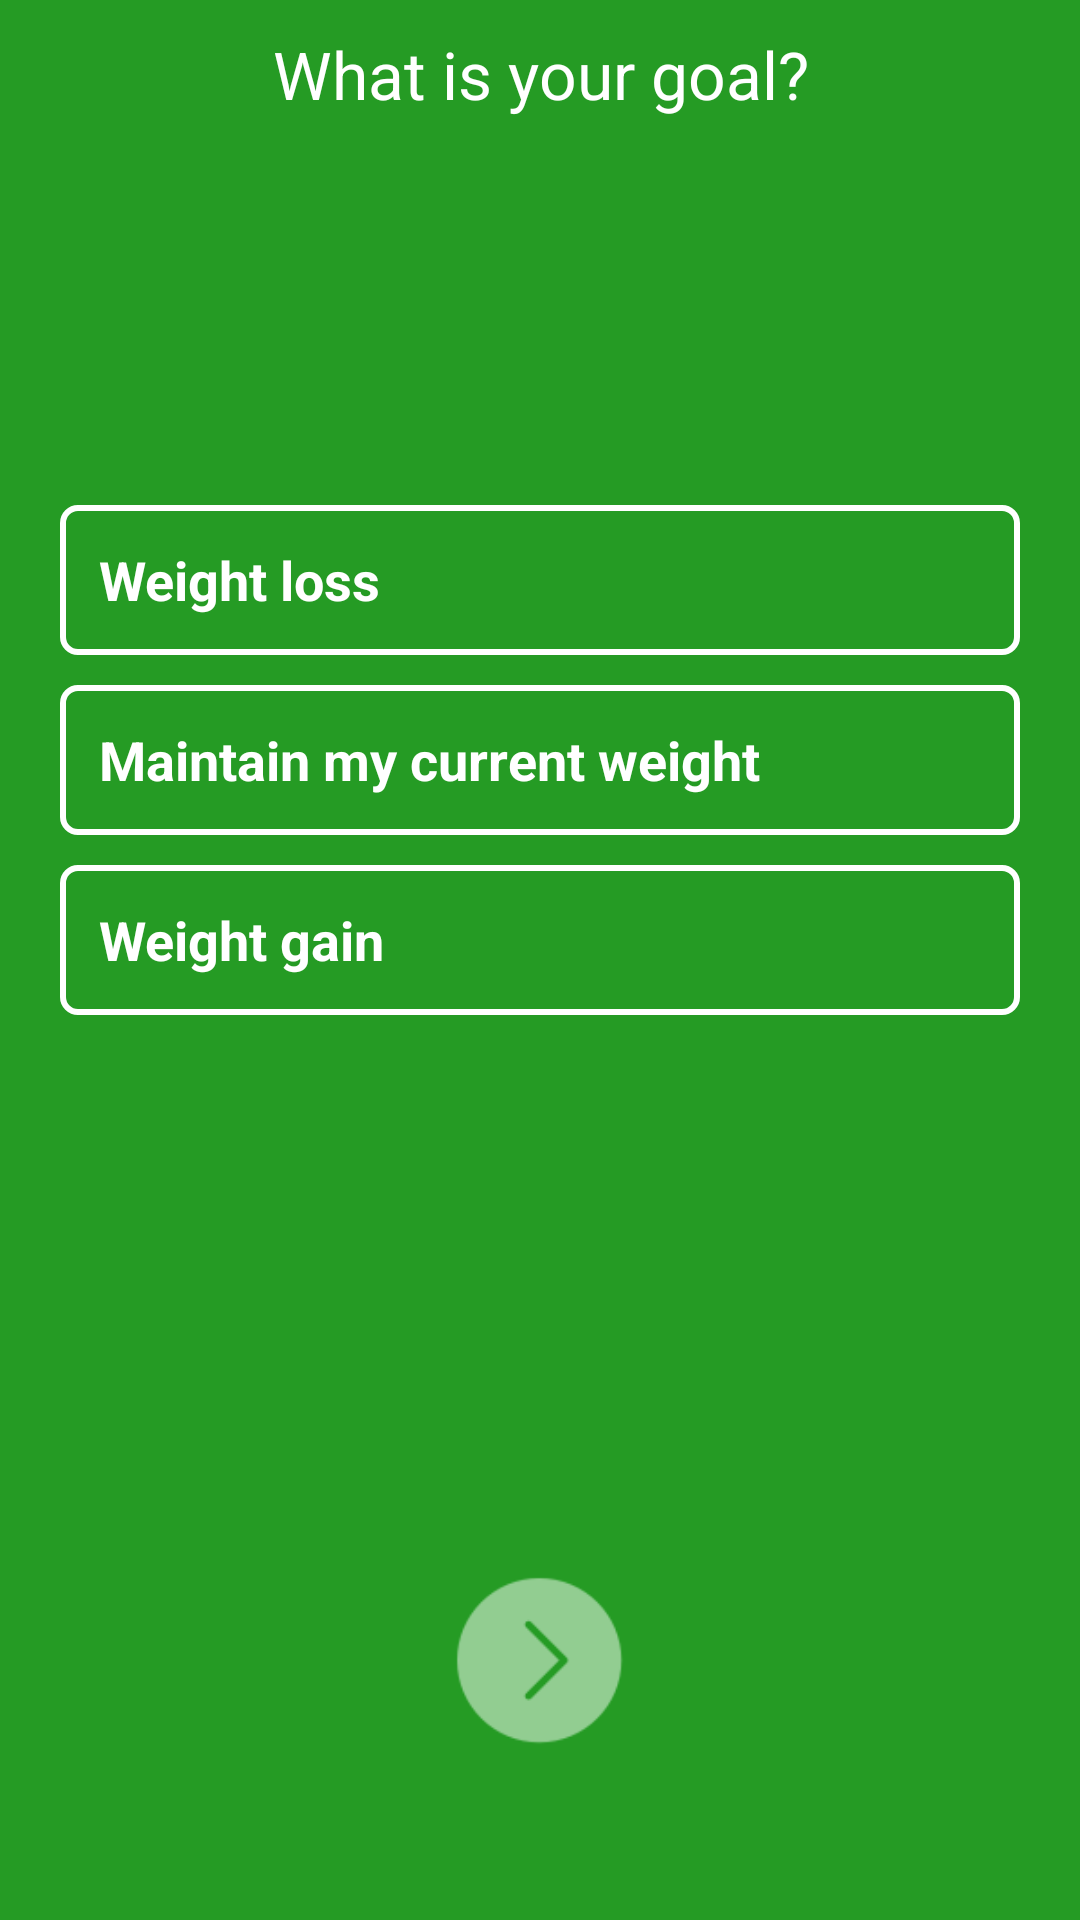

Icon click points for this 1080 x 1920 phone screenshot, format (x,y):
next page: (539,1660)
